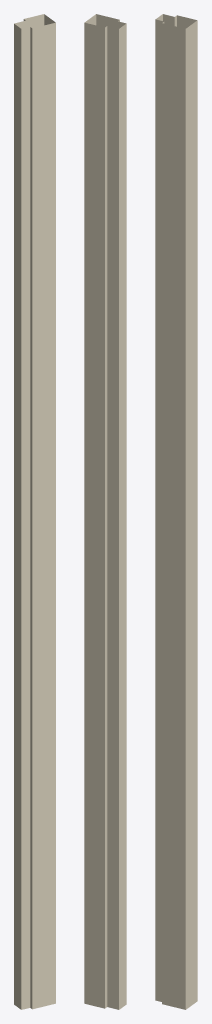
Rendered from original-54.obj.
3 views of the same model, side by side, from view 1: azimuth 30°, elevation 25°; view 2: azimuth 150°, elevation 25°; view 3: azimuth 330°, elevation 25° (orthographic).
Visible parts, largest first — view 1: SCREEN_CR1/SCREEN_CR/mesh412/mesh412-geometry#mesh412-geometry; view 2: SCREEN_CR1/SCREEN_CR/mesh412/mesh412-geometry#mesh412-geometry; view 3: SCREEN_CR1/SCREEN_CR/mesh412/mesh412-geometry#mesh412-geometry.
Boxes of the visible parts, box(x1,y1,x2,y2) form: SCREEN_CR1/SCREEN_CR/mesh412/mesh412-geometry#mesh412-geometry: box(14, 14, 55, 1009); SCREEN_CR1/SCREEN_CR/mesh412/mesh412-geometry#mesh412-geometry: box(84, 14, 126, 1009); SCREEN_CR1/SCREEN_CR/mesh412/mesh412-geometry#mesh412-geometry: box(155, 14, 197, 1009).
Size of the model in its own units: 0.021 by 0.6081 by 0.0132.
